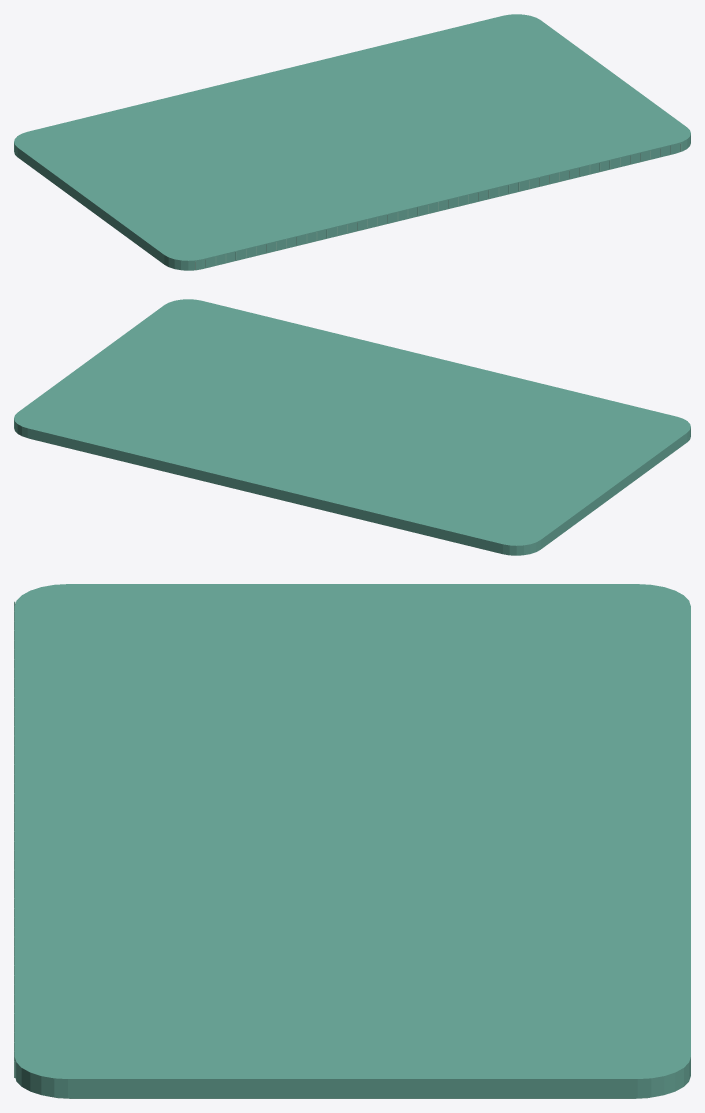
File: canopy.glb
3 renders of one model, top to bottom at view 1: azimuth 30°, elevation 25°; view 2: azimuth 150°, elevation 25°; view 3: azimuth 270°, elevation 25°, orthographic. The views are drawn at different scales.
Visible parts, largest first — view 1: Green wrapping canopy; view 2: Green wrapping canopy; view 3: Green wrapping canopy.
Part boxes in pixels (box(x1,y1,x2,y2)): Green wrapping canopy: box(14, 14, 690, 270); Green wrapping canopy: box(14, 299, 690, 555); Green wrapping canopy: box(14, 584, 690, 1098).
Bounding box in the file's own units: 36.2 × 0.745 × 20.92.
